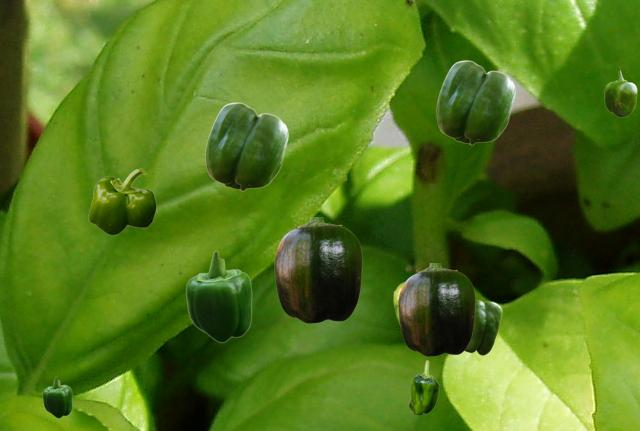bell_pepper: (274, 217, 361, 322), (205, 102, 287, 190), (398, 263, 474, 355), (436, 60, 514, 144), (185, 250, 251, 342), (88, 168, 155, 234), (465, 300, 501, 354), (408, 360, 438, 414), (604, 67, 636, 116), (42, 376, 71, 417), (393, 281, 404, 323)
